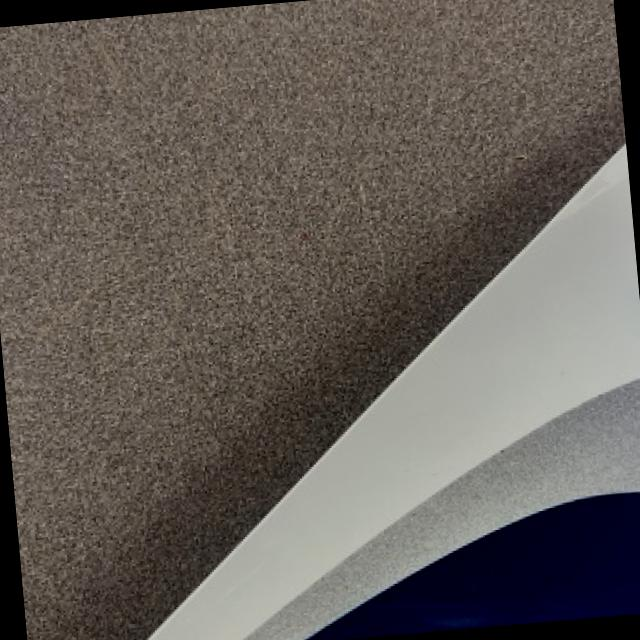healthy: (0, 0, 625, 640)
